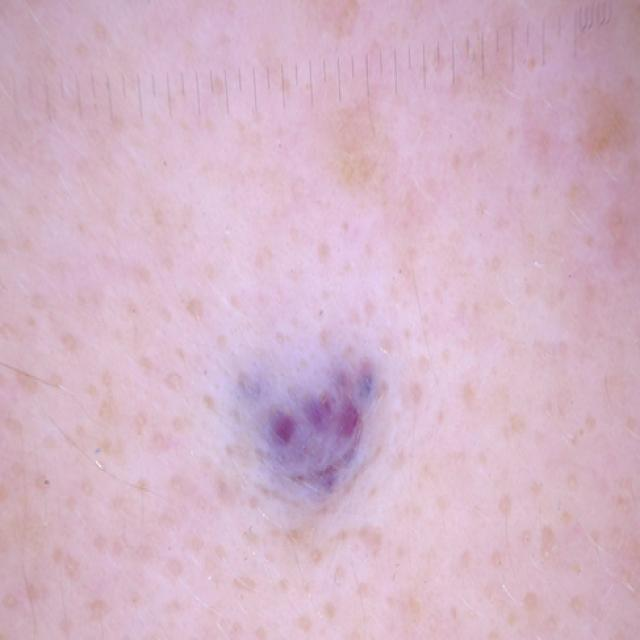Vascular Lesions: (197, 285, 463, 640)
